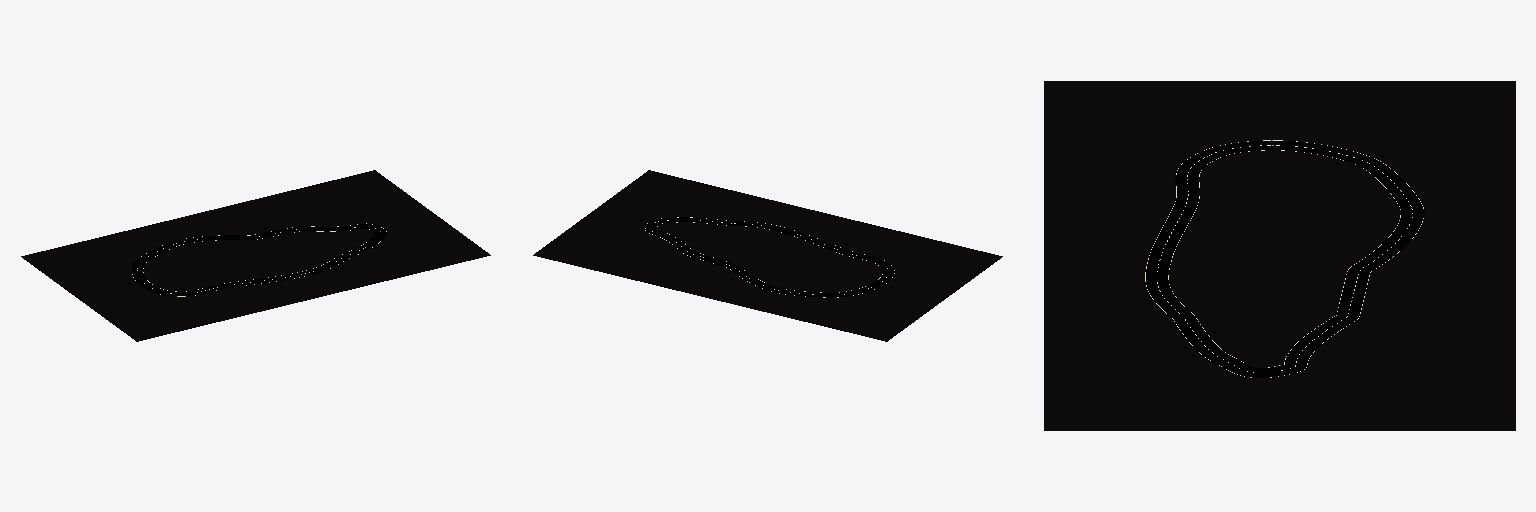
The robot description file, URDF, robot "race_track":
<?xml version="1.0" ?>
<!-- =================================================================================== -->
<!-- |    This document was autogenerated by xacro from track.xarco                    | -->
<!-- |    EDITING THIS FILE BY HAND IS NOT RECOMMENDED                                 | -->
<!-- =================================================================================== -->
<robot name="race_track" xmlns:xacro="http://ros.org/wiki/xacro">
  <link name="base_link">
    <collision>
      <origin rpy="0 0 0" xyz="0 0 0"/>
      <geometry>
        <box size="10 10 10"/>
      </geometry>
    </collision>
    <visual>
      <origin rpy="0 0 0" xyz="0 0 0"/>
      <geometry>
        <mesh filename="package://avisengine_environment/meshes/mesh_road.dae"/>
      </geometry>
    </visual>
  </link>
</robot>

--- Facts derived from the render (not from the file) ---
Views: 3 orthographic renders of the robot side by side, from view 1: azimuth 30°, elevation 25°; view 2: azimuth 150°, elevation 25°; view 3: azimuth 270°, elevation 25°.
Robot: race_track — 1 links, 0 joints (none); root link base_link; default pose: all joints at 0.
Links seen in each view (by area): view 1: base_link; view 2: base_link; view 3: base_link.
Link boxes in pixels (x1,y1,x2,y2): base_link: (21, 170, 490, 341); base_link: (533, 170, 1002, 341); base_link: (1044, 81, 1515, 430).
Size in the robot's own frame: 288 by 164 by 0.2777 metres.
1 mesh visuals loaded from 1 distinct referenced files (1 Collada DAE).
